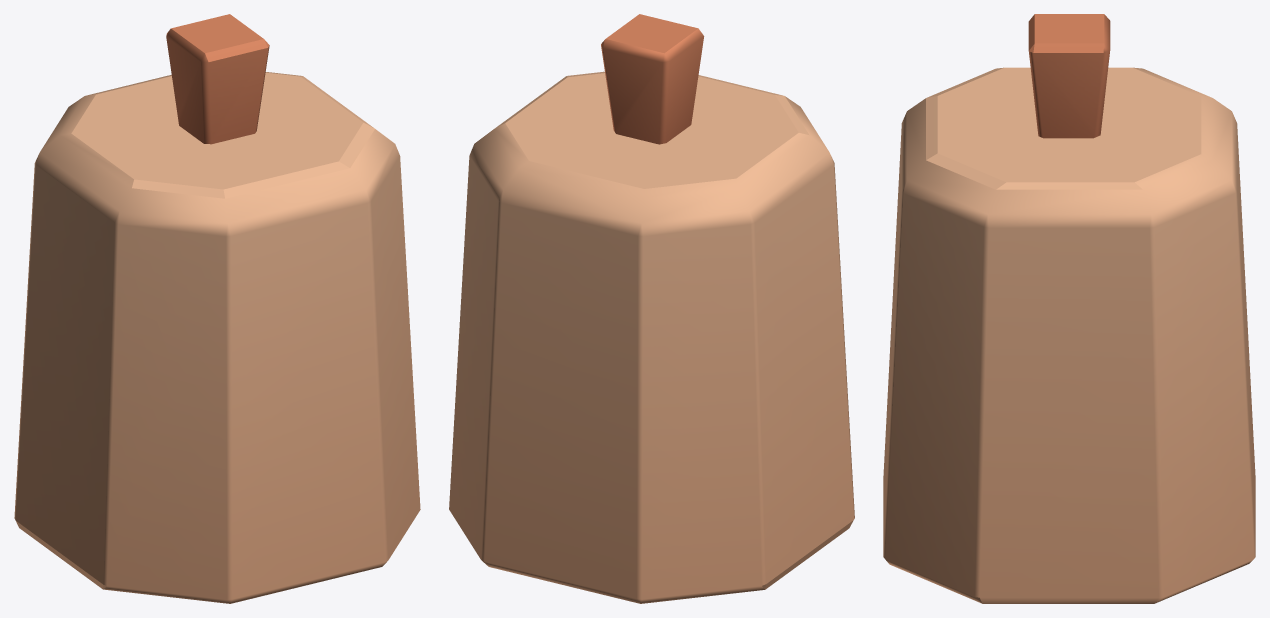
The model's file is kenney-graveyard__candle.glb.
The picture shows the model from 3 angles, left to right: view 1: azimuth 30°, elevation 25°; view 2: azimuth 150°, elevation 25°; view 3: azimuth 270°, elevation 25°; orthographic projection. The views are drawn at different scales.
Parts seen in each view (by area): view 1: candle; view 2: candle; view 3: candle.
Part boxes in pixels (x1,y1,x2,y2): candle: [14, 14, 420, 603]; candle: [449, 14, 854, 603]; candle: [883, 14, 1255, 603].
Bounding box in the file's own units: 0.1358 × 0.2002 × 0.1358.
Materials: 1 (1 with a texture image).
